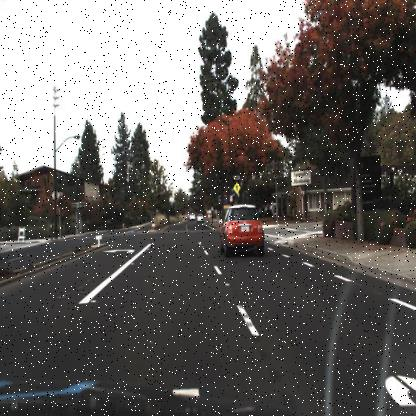car: (218, 202, 267, 255)
